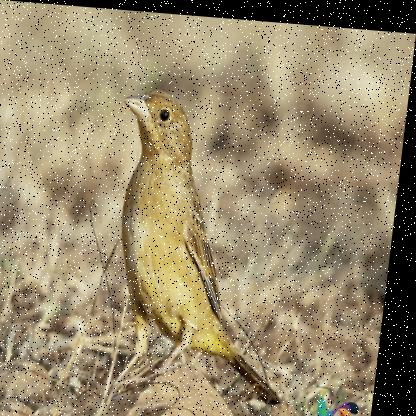Burung: (97, 82, 318, 406)
